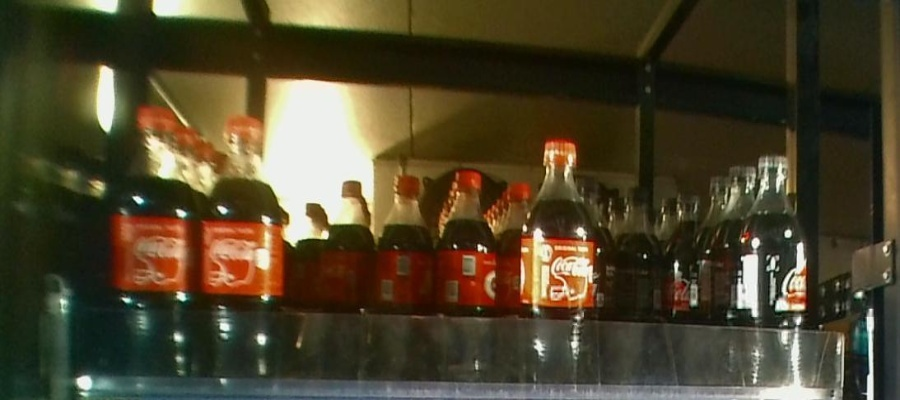bottle: (110, 103, 193, 380), (197, 109, 281, 380), (526, 141, 596, 394), (738, 156, 812, 388), (434, 171, 498, 378), (373, 175, 433, 378), (609, 179, 661, 377), (319, 177, 369, 380)
